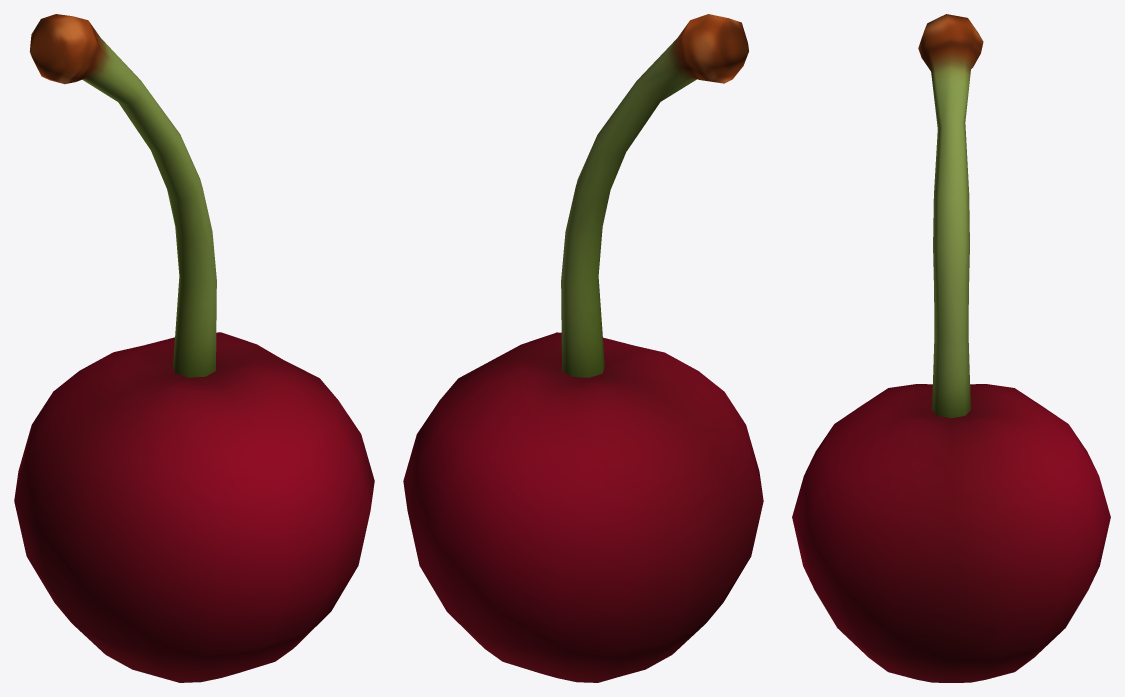
File: Cherry_DrkRed.fbx
3 views of the same model, side by side, from view 1: azimuth 30°, elevation 25°; view 2: azimuth 150°, elevation 25°; view 3: azimuth 270°, elevation 25° (orthographic). The views are drawn at different scales.
Visible parts, largest first — view 1: Cherry_DrkRed; view 2: Cherry_DrkRed; view 3: Cherry_DrkRed.
Boxes of the visible parts, x1,y1,x2,y2 form: Cherry_DrkRed: [14, 14, 374, 682]; Cherry_DrkRed: [403, 14, 763, 682]; Cherry_DrkRed: [792, 14, 1110, 682].
Bounding box in the file's own units: 14.95 × 30.2 × 14.61.
